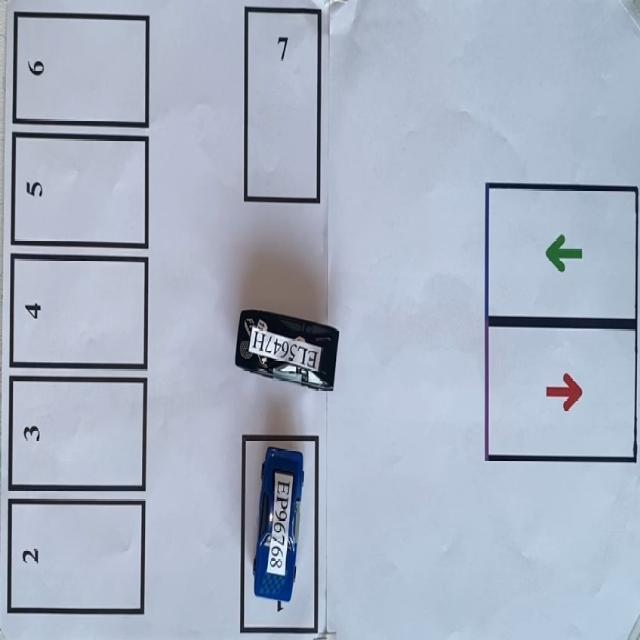car: (235, 310, 338, 389), (254, 448, 303, 602)
